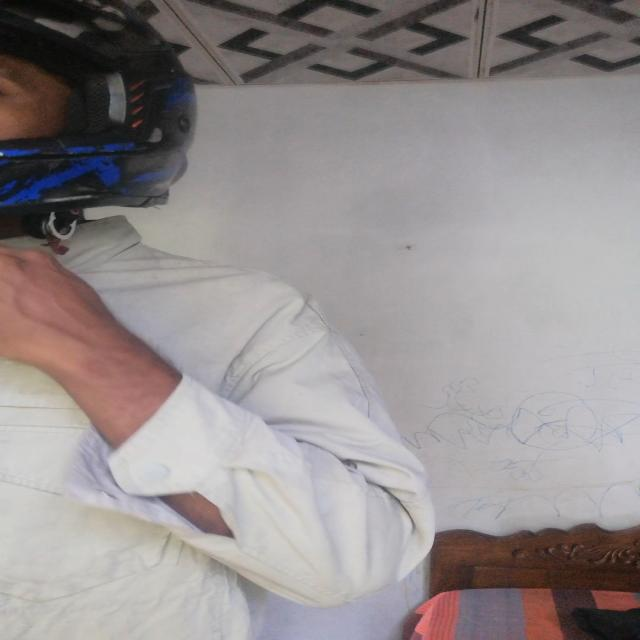Helmet_Wearer: (0, 0, 207, 242)
Jacket_Wearer: (4, 226, 455, 626)
Person: (0, 1, 487, 640)
